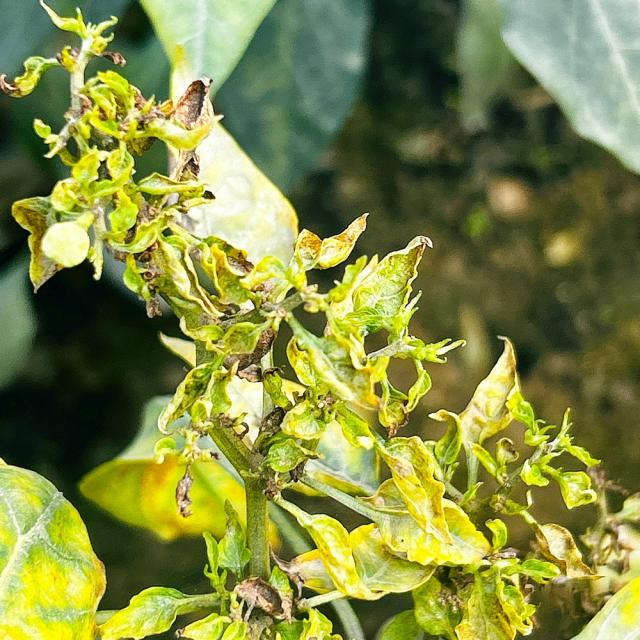Chilli_Leaf_Curl: (3, 2, 608, 637), (4, 1, 232, 319), (0, 458, 107, 638), (369, 433, 490, 568)
